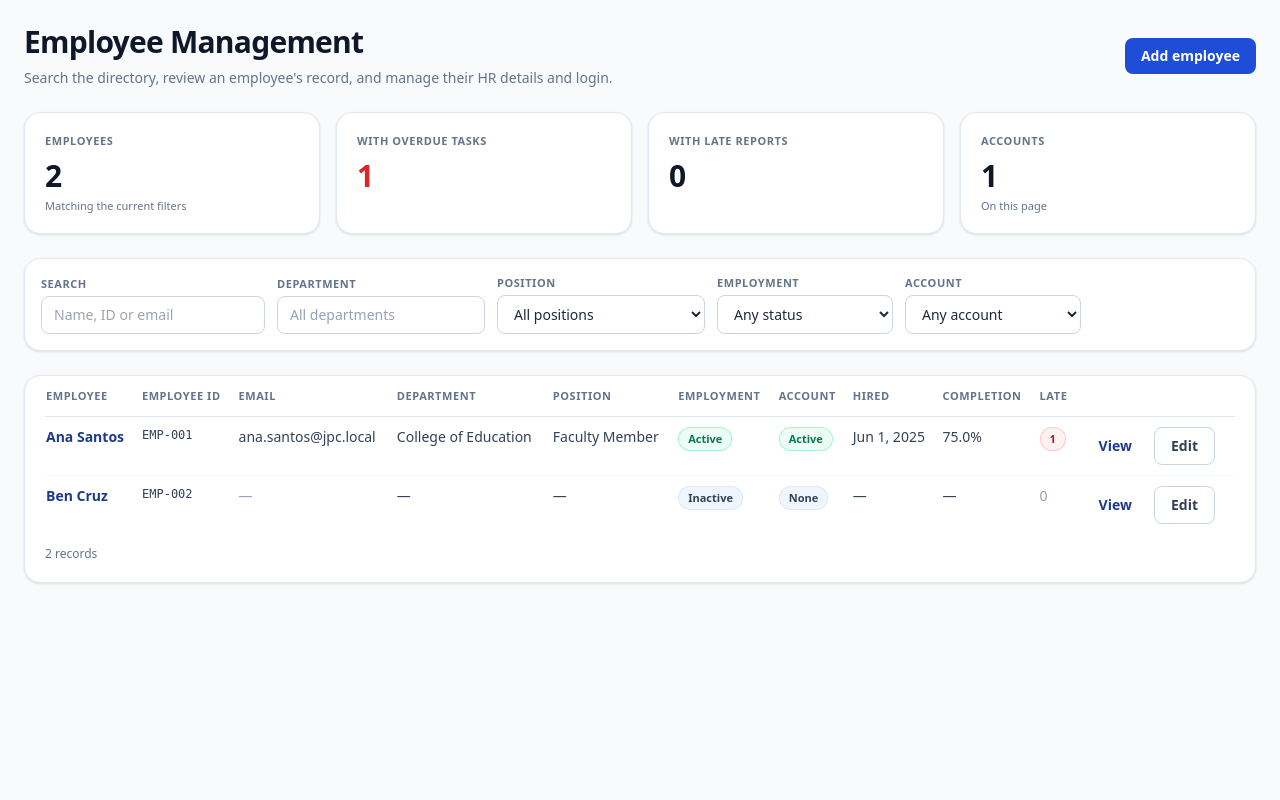
Test: EmployeesPage › surfaces the API field errors from a rejected save
The width and height of the screenshot is (1280, 800).
Click the button "Add employee" at point(1190, 56), box [1125,38,1256,74]
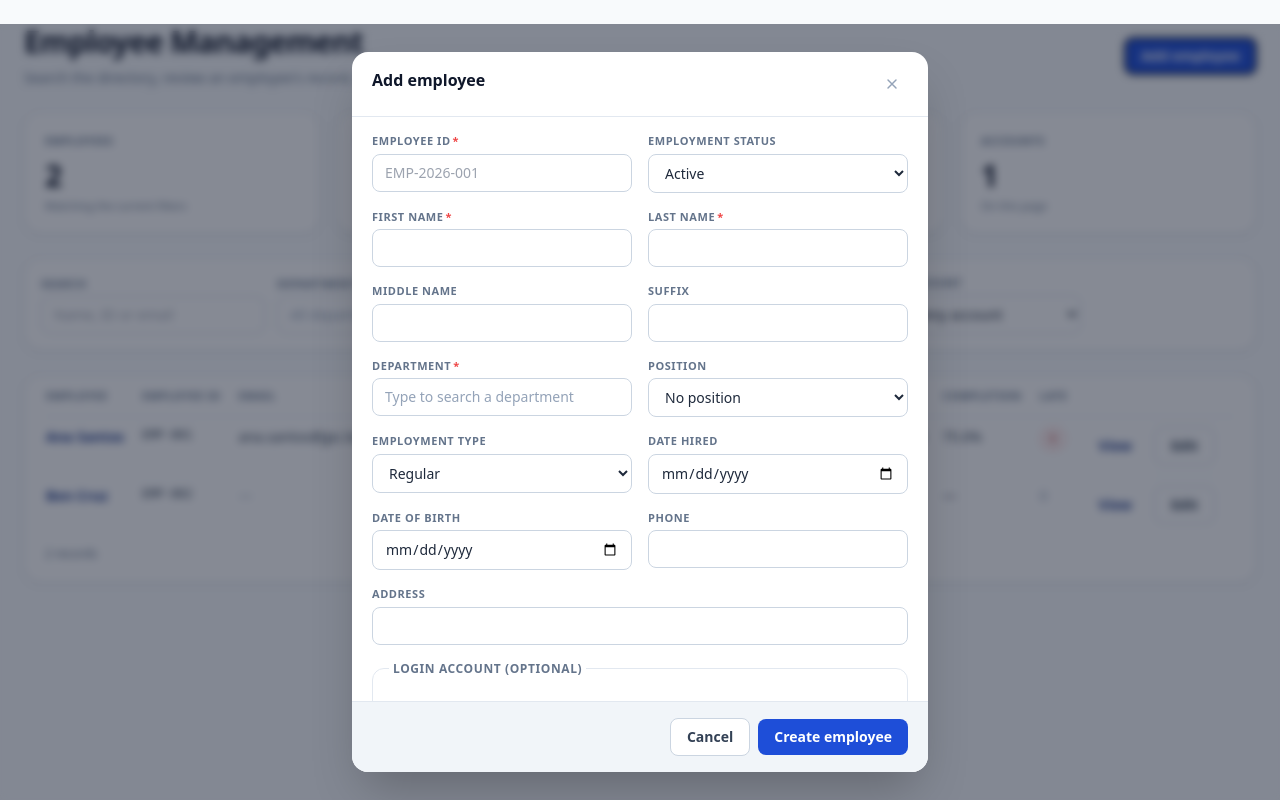
Type "EMP-001" into the field labelled "Employee ID*" at point(502, 172), box [372,154,632,192]
Type "Dup" into the field labelled "First name*" at point(502, 248), box [372,229,632,267]
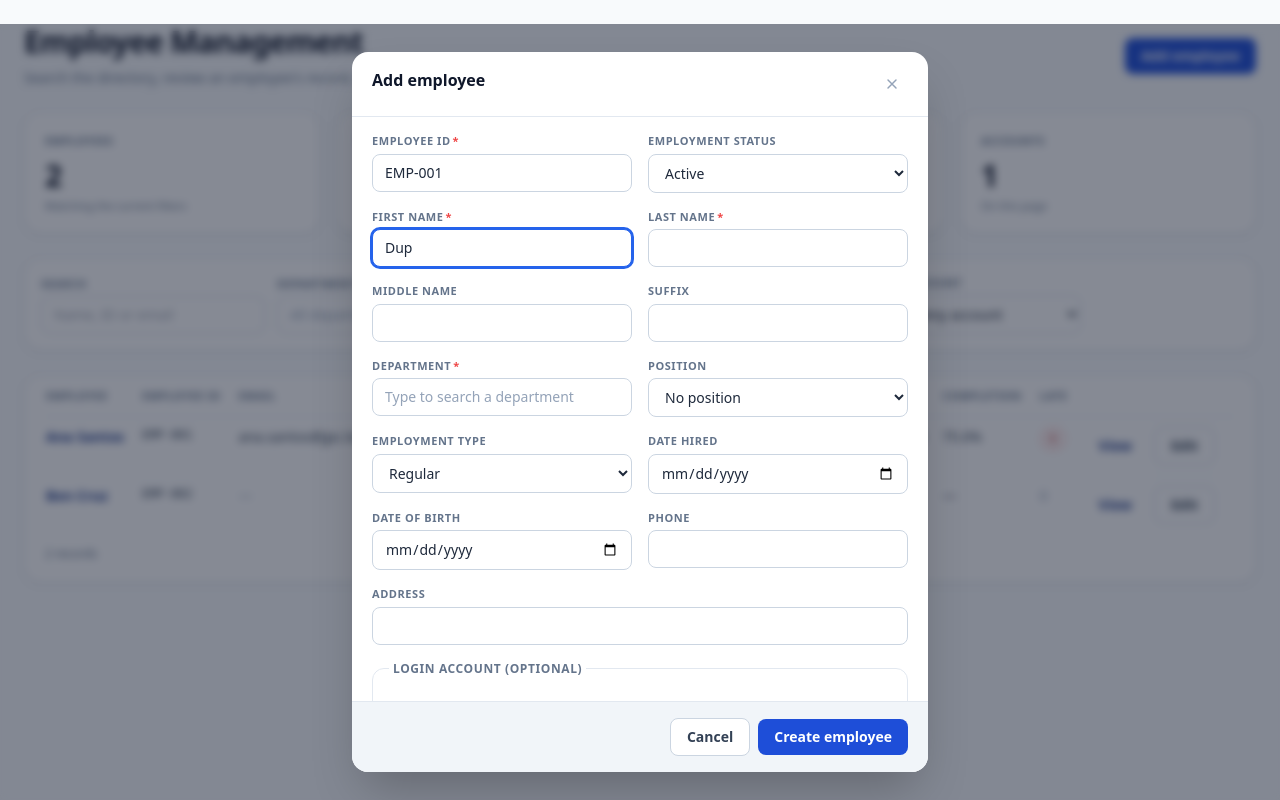
Type "Licate" into the field labelled "Last name*" at point(778, 248), box [648,229,908,267]
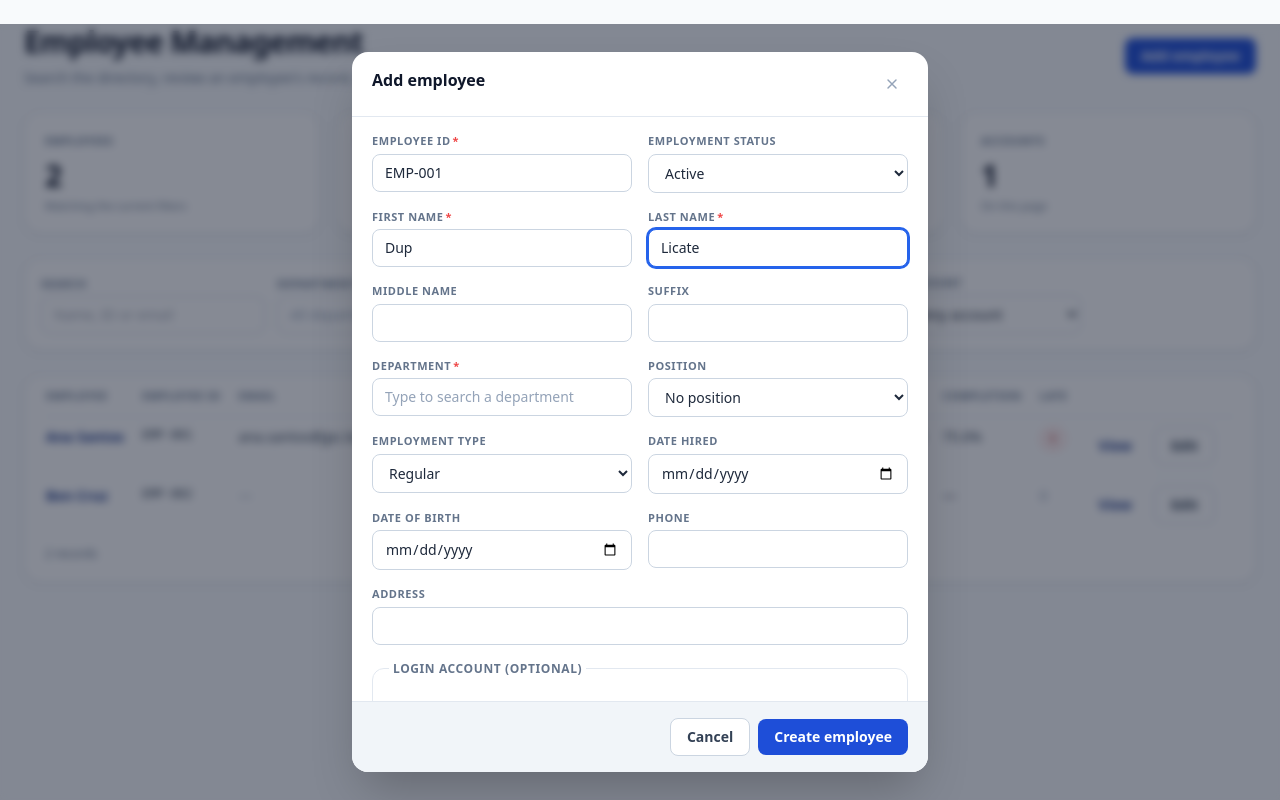
Click the dropdown labelled "Department*" at point(502, 397), box [372,378,632,416]
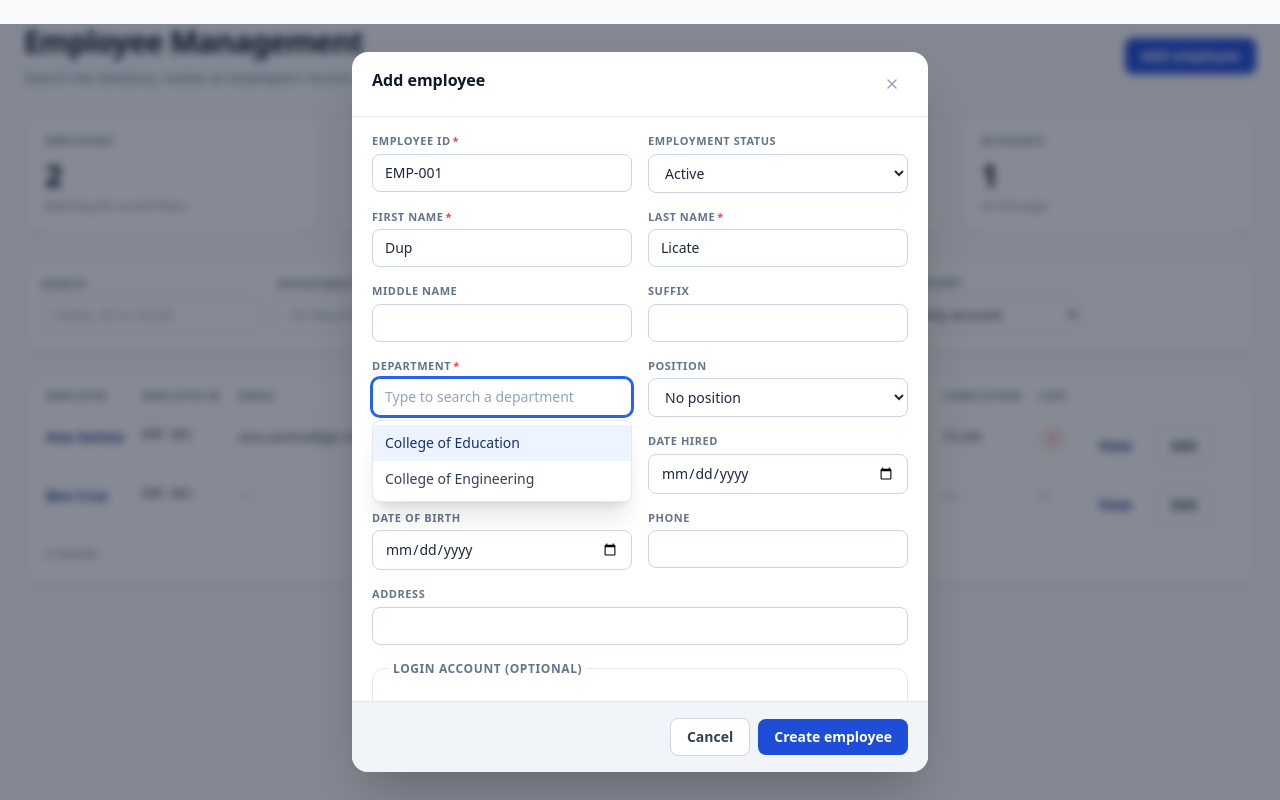
Click the option "College of Education" at point(502, 443), box [373,425,631,461]
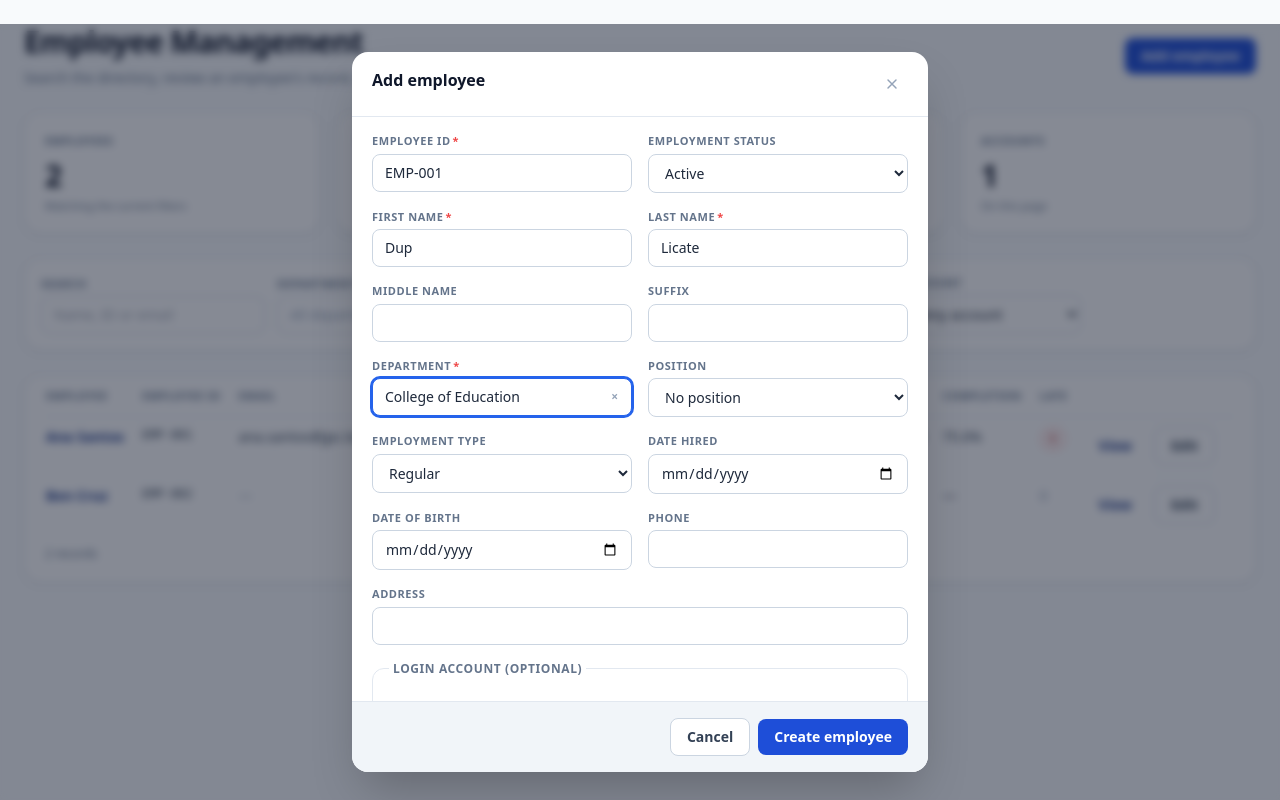
Click the button "Create employee" at point(833, 737), box [758,719,908,755]
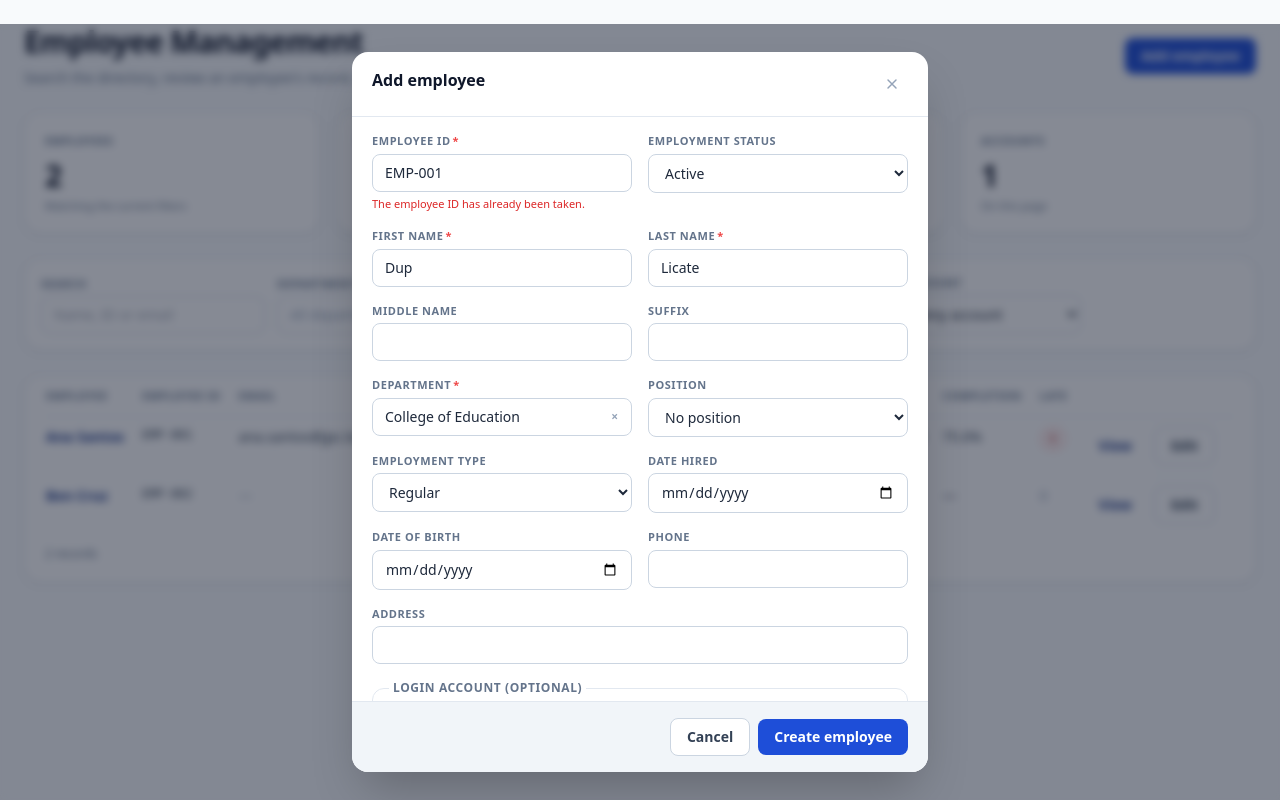
Result: the dialog "Add employee" is shown at [352,52,928,772]
Result: the text "The employee ID has already been taken." is shown at [372,196,585,210]
